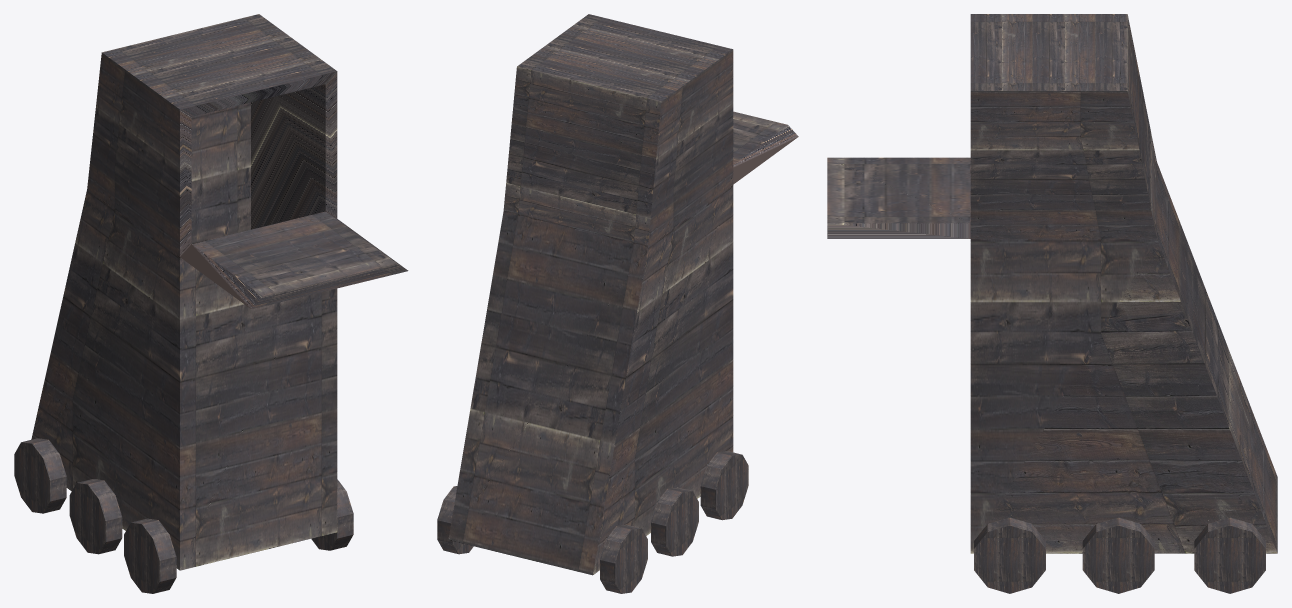
Rendered from SiegeTower.fbx.
3 views of the same model, side by side, from view 1: azimuth 30°, elevation 25°; view 2: azimuth 150°, elevation 25°; view 3: azimuth 270°, elevation 25° (orthographic). The views are drawn at different scales.
Visible parts, largest first — view 1: pCube2; view 2: pCube2; view 3: pCube2.
Part boxes in pixels (<box>): pCube2: <box>14,14,408,593</box>; pCube2: <box>437,14,798,593</box>; pCube2: <box>827,14,1277,593</box>.
Bounding box in the file's own units: 6.47 × 15.71 × 12.96.
1 material, 1 textured.
